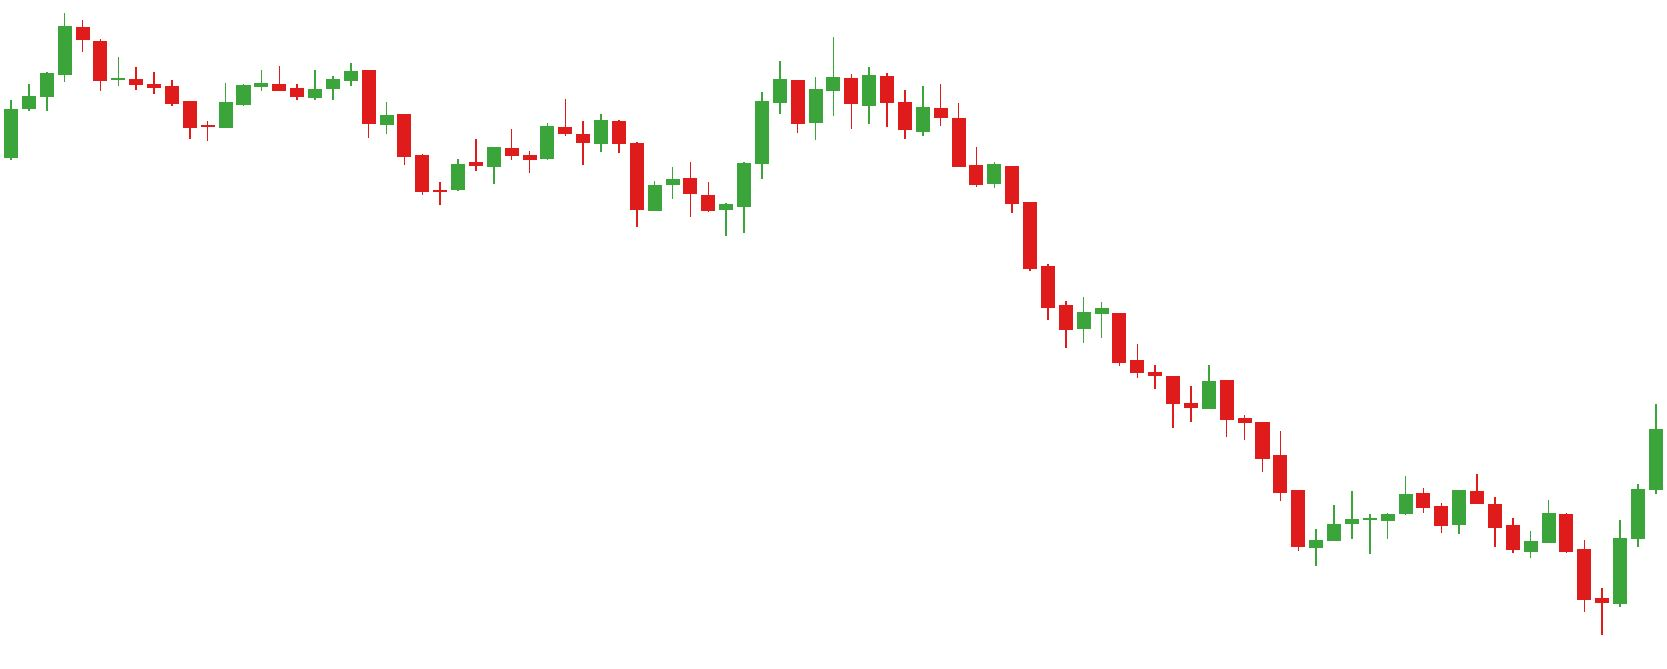buy: (434, 141, 666, 231)
